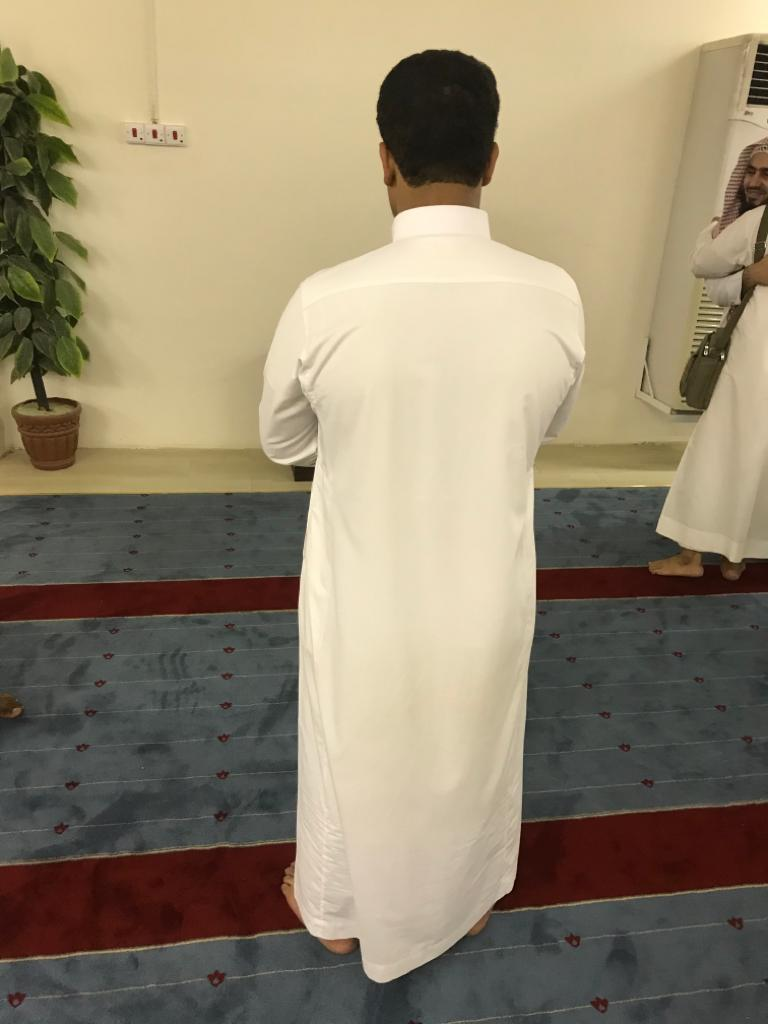qiyam: (255, 47, 594, 987)
